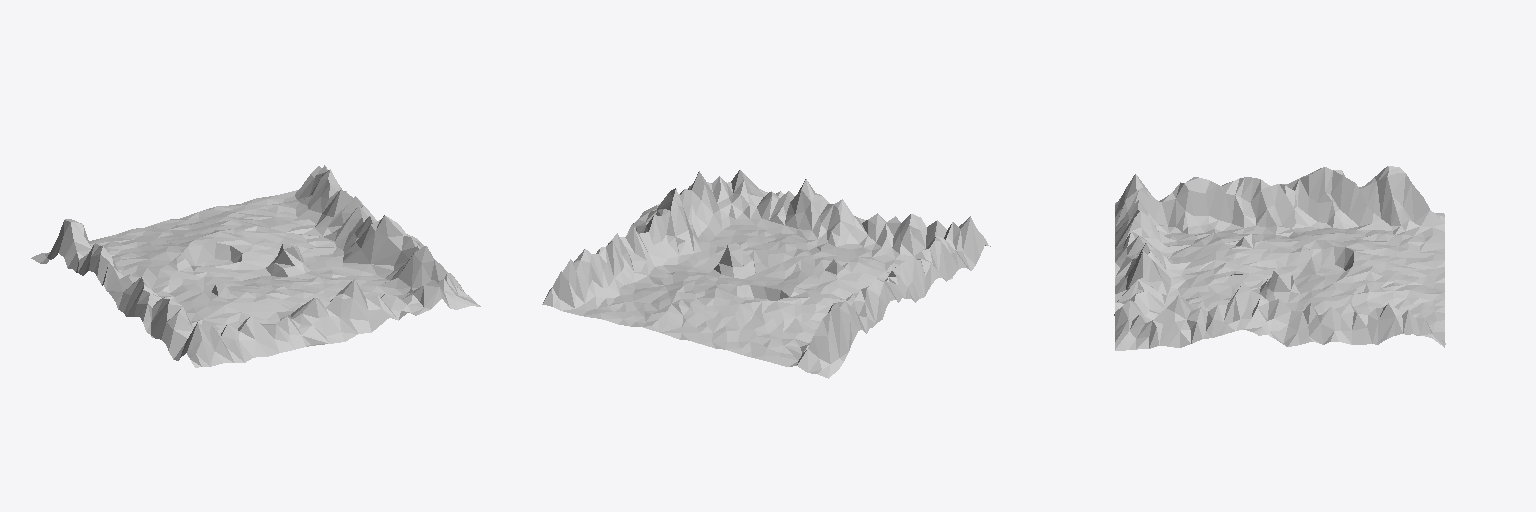
Rendered from newterraint.obj.
The picture shows the model from 3 angles: view 1: azimuth 30°, elevation 25°; view 2: azimuth 150°, elevation 25°; view 3: azimuth 270°, elevation 25°; orthographic projection.
Parts seen in each view (by area): view 1: Terrain; view 2: Terrain; view 3: Terrain.
Boxes of the visible parts, x1=… form: Terrain: x1=31, y1=165, x2=480, y2=367; Terrain: x1=542, y1=170, x2=990, y2=378; Terrain: x1=1114, y1=166, x2=1445, y2=350.
Size of the model in its own units: 101 by 18.34 by 100.